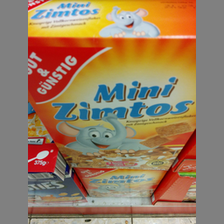cereal: (28, 1, 195, 170)
